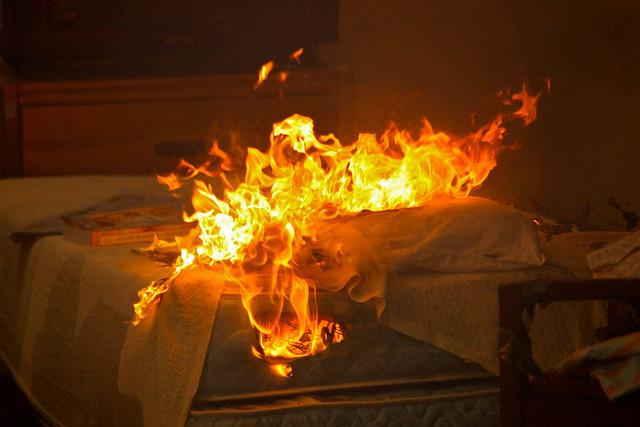fire: (123, 59, 545, 371)
